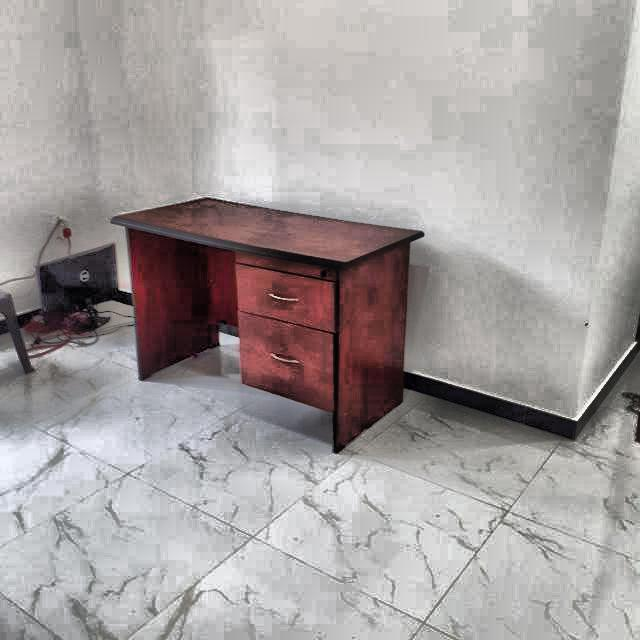mesa: (96, 183, 448, 463)
